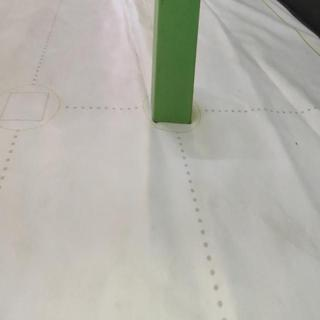greenbox: (151, 1, 203, 123)
